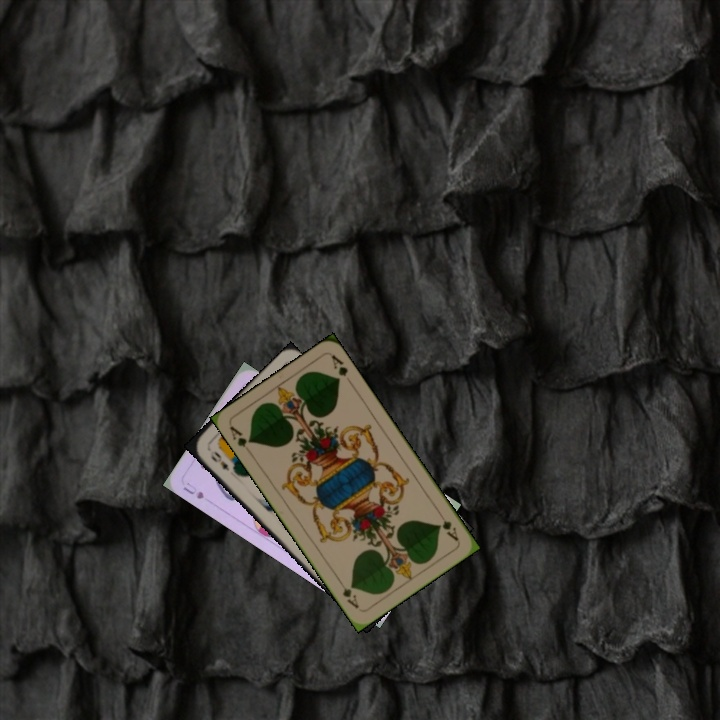EO: (207, 447, 232, 474)
GA: (225, 421, 255, 450), (435, 516, 461, 544)
SU: (179, 478, 207, 502)
